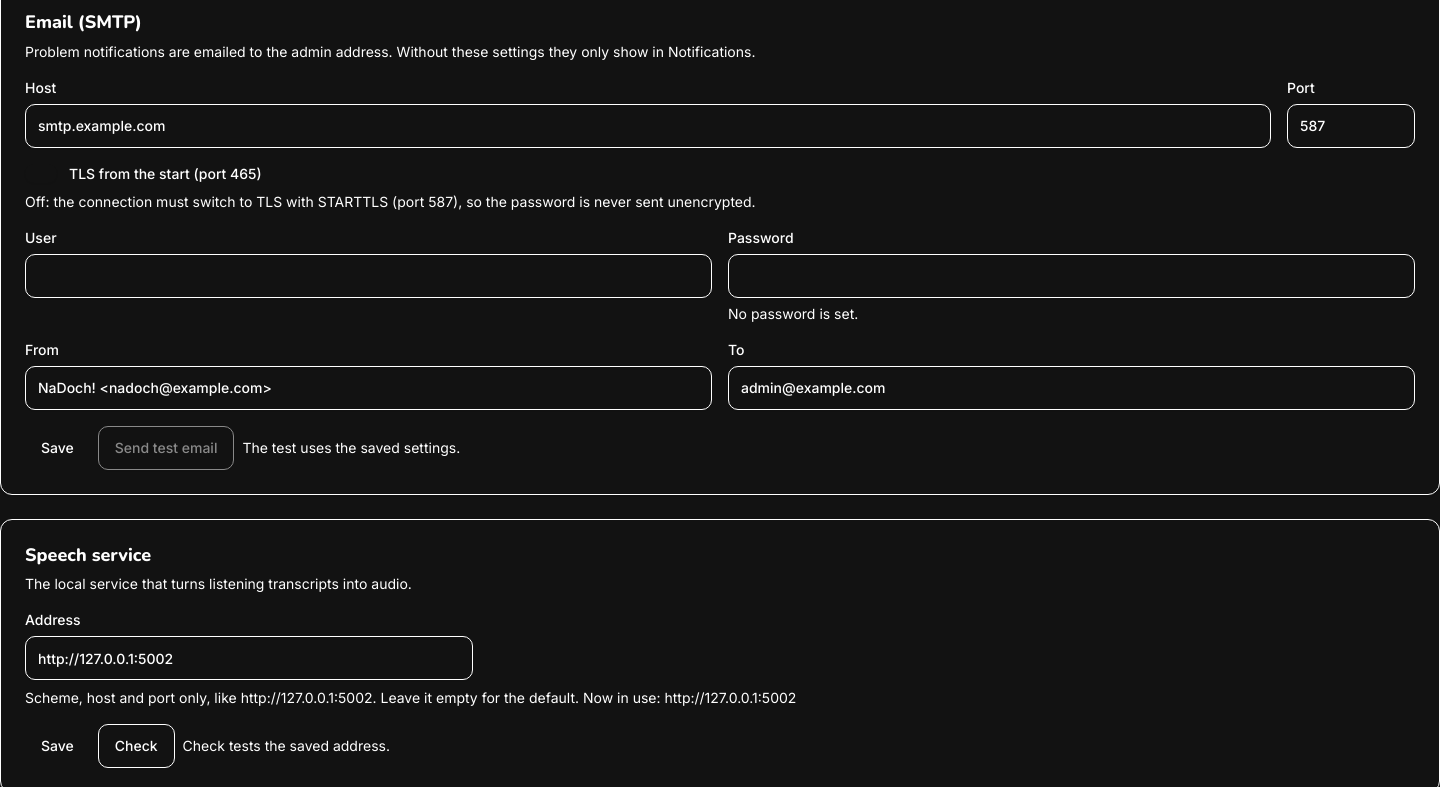
Test: SystemSettingsAdmin › saves the speech address and checks the service
In the field labelled "Address": (249,658) [25,636,473,680], type "http://speech.local:5002/"
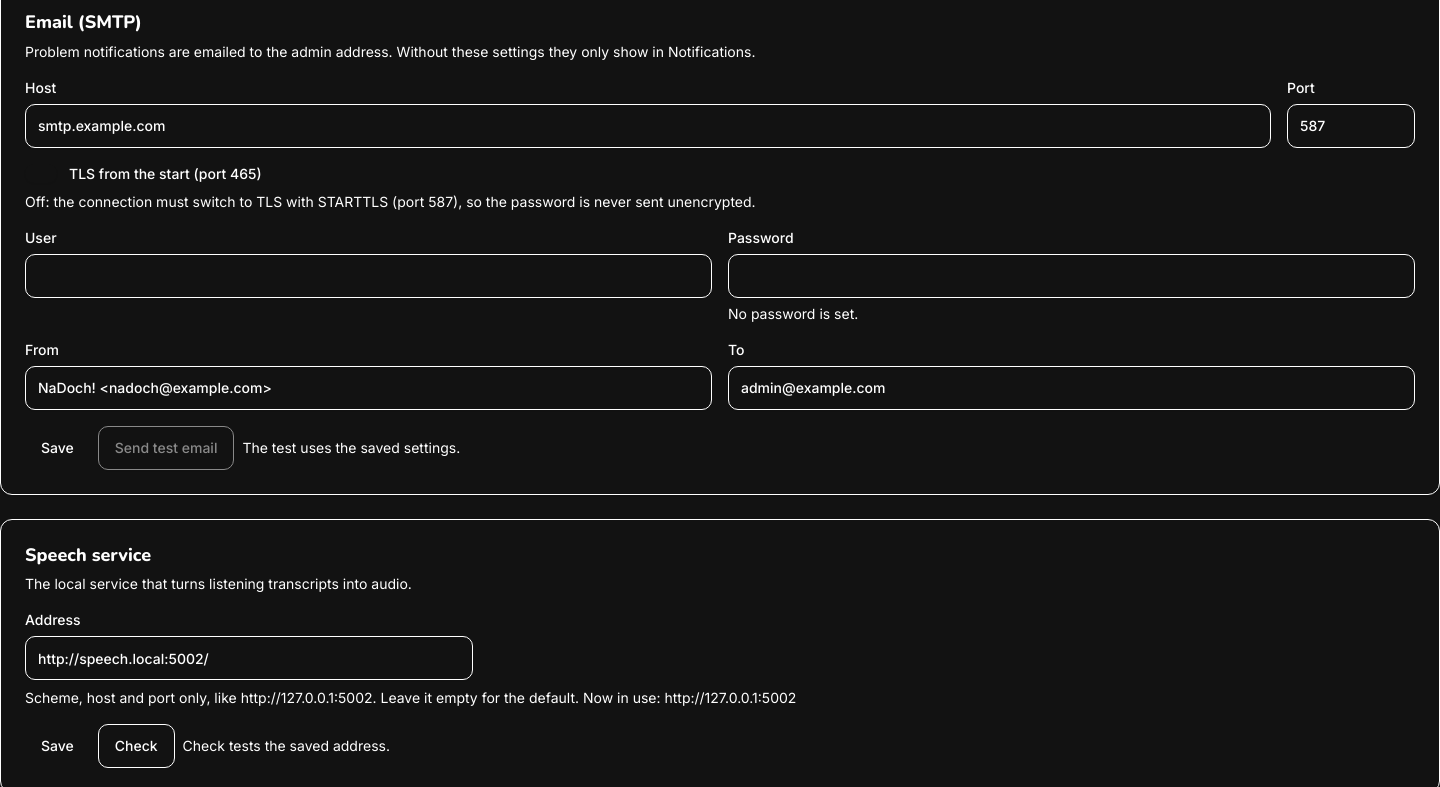
Click the button "Save" in the row of "Check tests the saved address.": (57,746) [25,724,90,768]
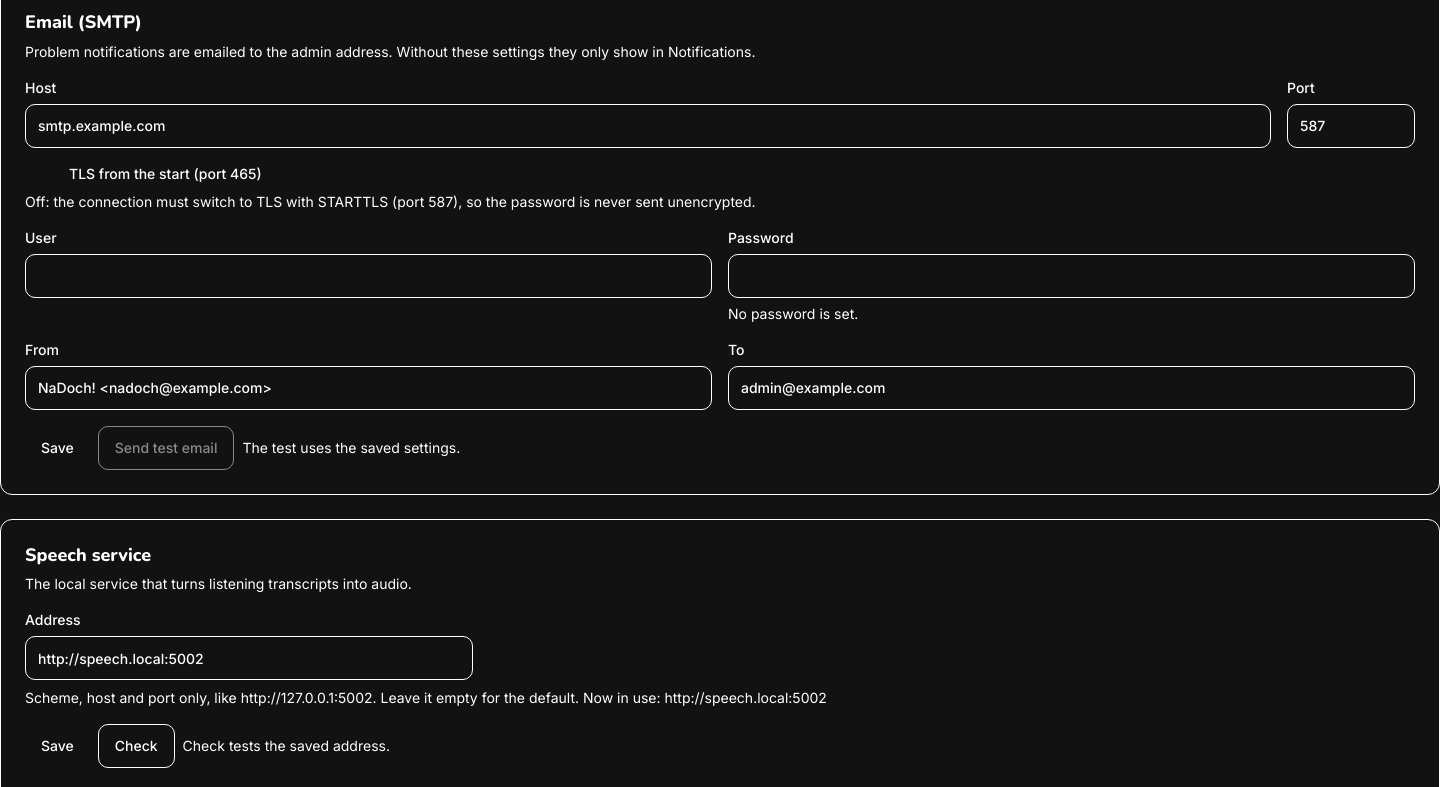
Expected: the field labelled "Address" holds "http://speech.local:5002", [25,636,473,680]
Click the button "Check": (136,746) [98,724,175,768]
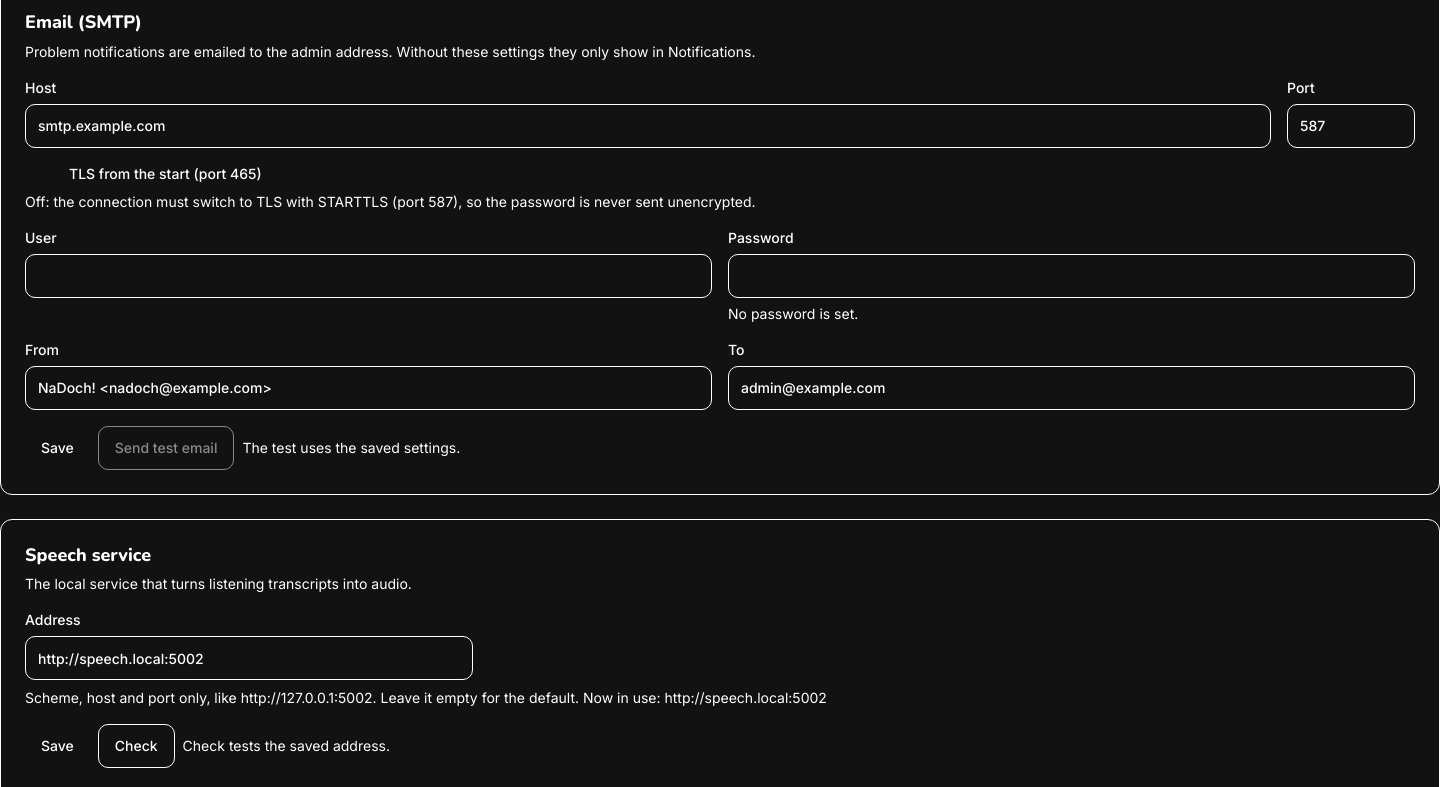
Click the button "Check": (136,746) [98,724,175,768]
(page scrolled)
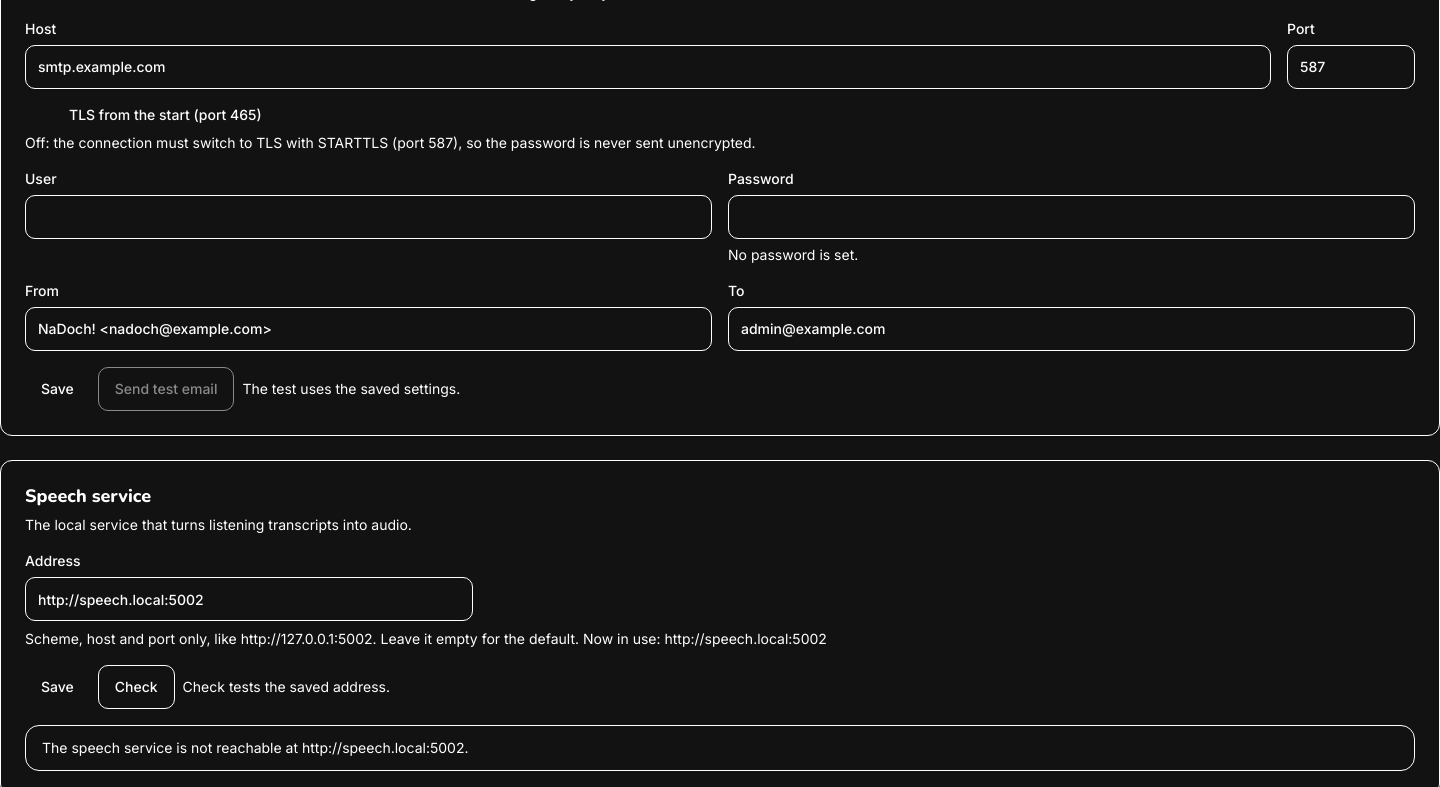
Expected: the message reads "The speech service is not reachable at http://speech.local:5002.", [25,725,1415,771]
